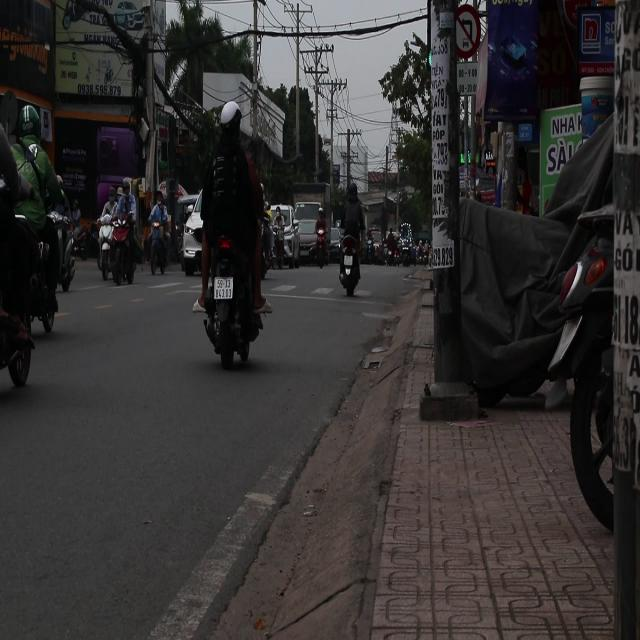car: (182, 226, 203, 278)
motorbike: (1, 200, 67, 343), (198, 235, 262, 370), (0, 287, 34, 394), (104, 230, 140, 289), (268, 216, 300, 272), (97, 217, 123, 285), (337, 229, 362, 297), (66, 219, 98, 264), (313, 206, 331, 273)
truck: (292, 195, 330, 258)
